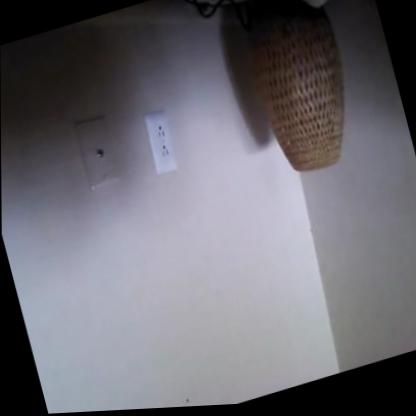OUTLET: (143, 110, 180, 175)
